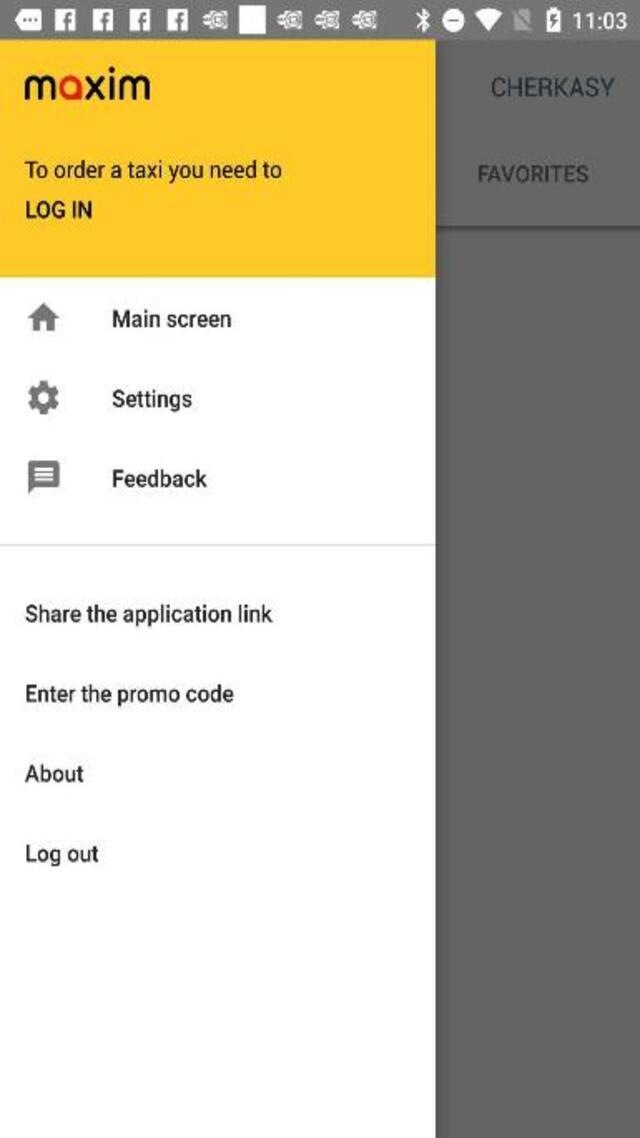Icon: (27, 382, 59, 416), (27, 460, 59, 494), (28, 302, 58, 331)
Image: (24, 66, 150, 100)
Text: (24, 158, 282, 183), (24, 603, 272, 628), (25, 684, 234, 706), (492, 77, 615, 97), (111, 308, 231, 328), (477, 166, 587, 184), (113, 388, 193, 412), (112, 468, 207, 488), (25, 844, 98, 867), (25, 200, 91, 220), (25, 763, 85, 784)
